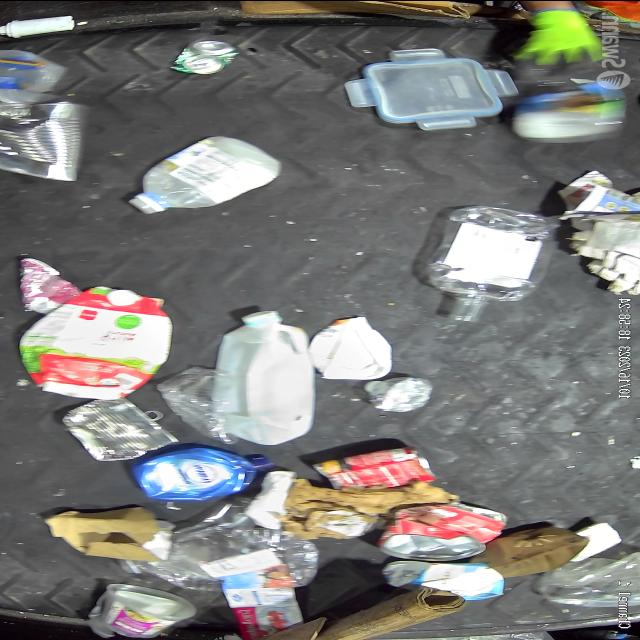can: (376, 502, 508, 560), (63, 396, 177, 460), (1, 100, 92, 180), (313, 446, 439, 492), (19, 256, 84, 314), (171, 39, 239, 74)
milk_jug: (215, 309, 316, 445), (128, 136, 282, 214), (310, 314, 392, 378)
non_white_jug: (18, 286, 172, 398), (132, 446, 274, 501), (386, 558, 504, 599), (223, 587, 305, 639)
plastic_bottle: (427, 206, 556, 322), (121, 526, 322, 588), (366, 376, 434, 412)
